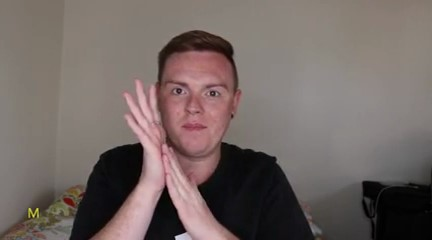M: (115, 69, 223, 240)
